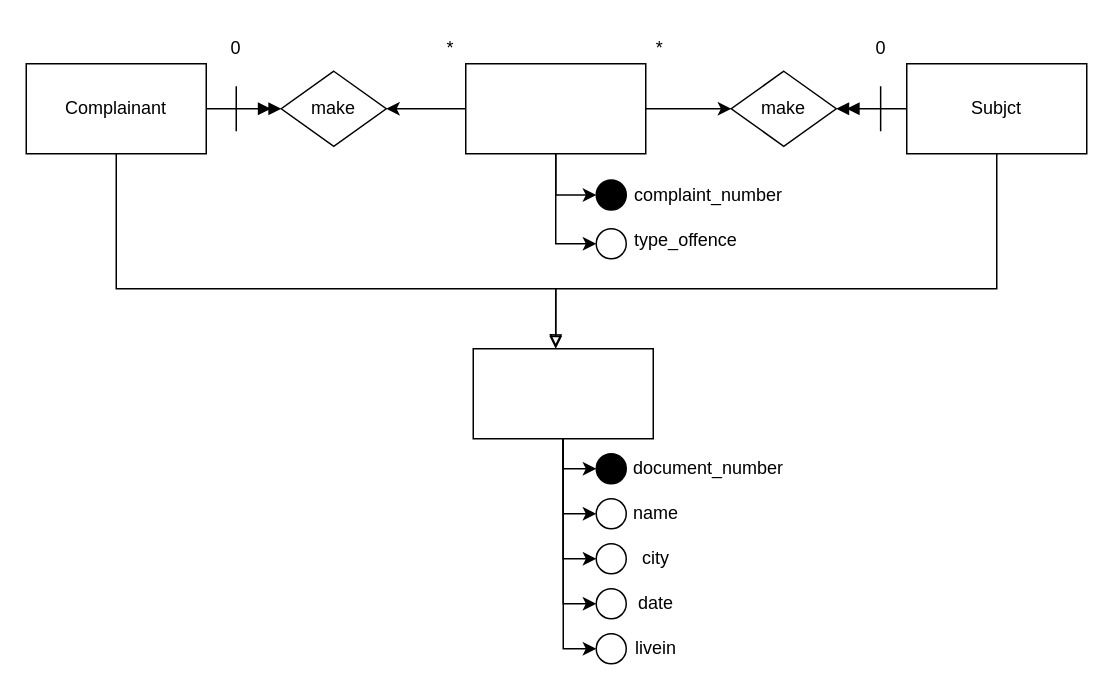
Image size: 1113x690. Some labels were removed from this diagram. The shapes that lost their labels are listed below. From the top down, each one's centre as x and y in pixels, then its label:
At point (555, 108): "Complaint".
At point (562, 393): "PersonDetails".
